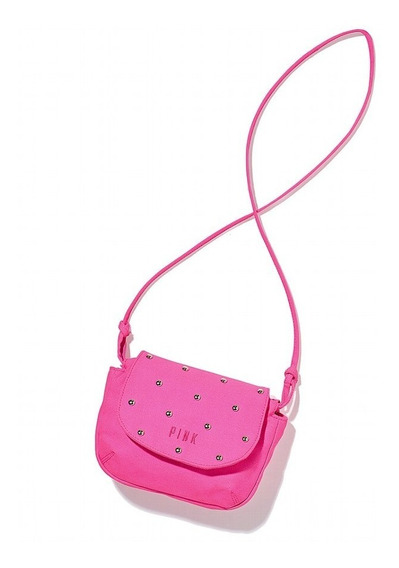cartera: (92, 344, 291, 513)
